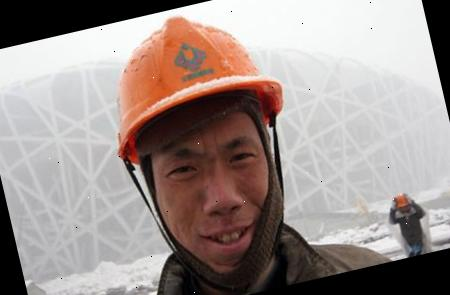helmet: (86, 0, 294, 162)
